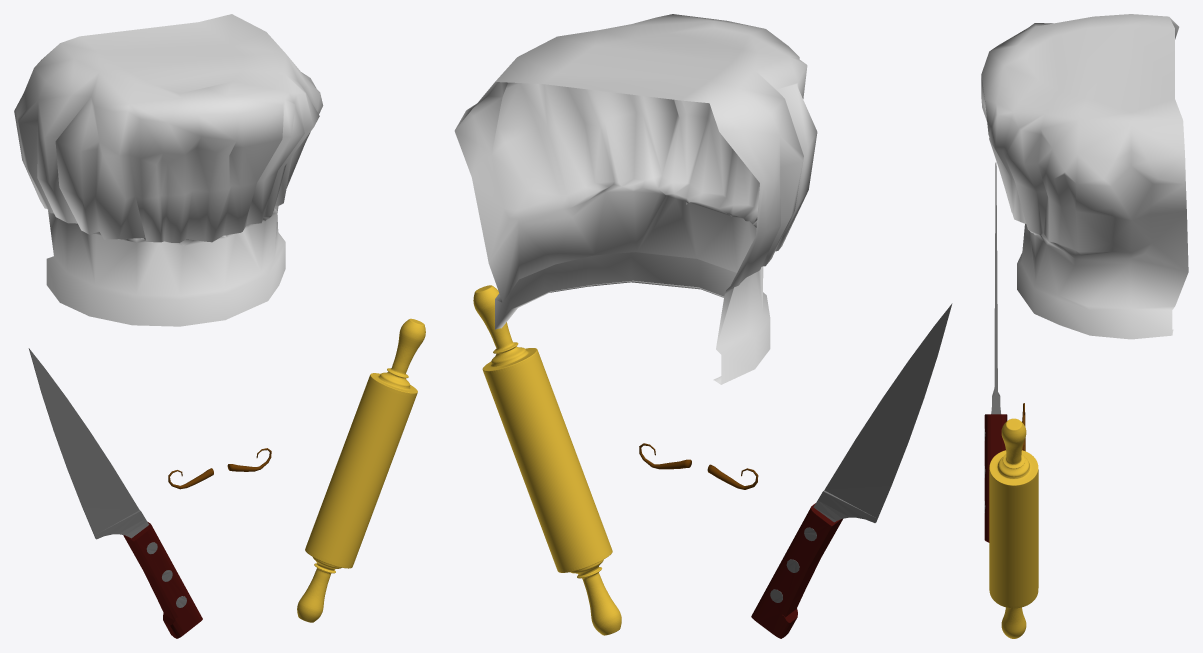
Rendered from restaruante.glb.
3 views of the same model, side by side, from view 1: azimuth 30°, elevation 25°; view 2: azimuth 150°, elevation 25°; view 3: azimuth 270°, elevation 25° (orthographic). The views are drawn at different scales.
Visible parts, largest first — view 1: Hat, rollingpin, Cooking Knife, moustache; view 2: Hat, rollingpin, Cooking Knife, moustache; view 3: Hat, rollingpin, Cooking Knife.
Part boxes in pixels (bbox=[...]): Hat: bbox=[14, 14, 323, 326]; rollingpin: bbox=[297, 318, 425, 622]; Cooking Knife: bbox=[28, 348, 202, 638]; moustache: bbox=[168, 448, 271, 489]; Hat: bbox=[454, 14, 817, 384]; rollingpin: bbox=[473, 285, 621, 635]; Cooking Knife: bbox=[751, 303, 952, 638]; moustache: bbox=[639, 443, 758, 489]; Hat: bbox=[981, 14, 1188, 339]; rollingpin: bbox=[989, 418, 1038, 638]; Cooking Knife: bbox=[984, 162, 1007, 542].
Bounding box in the file's own units: 2.24 × 2.97 × 1.03.
